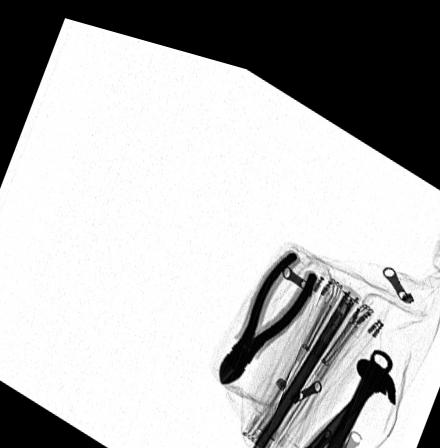Hammer: (278, 337, 398, 448)
Pliers: (214, 232, 318, 375)
Wrench: (310, 326, 394, 448)
